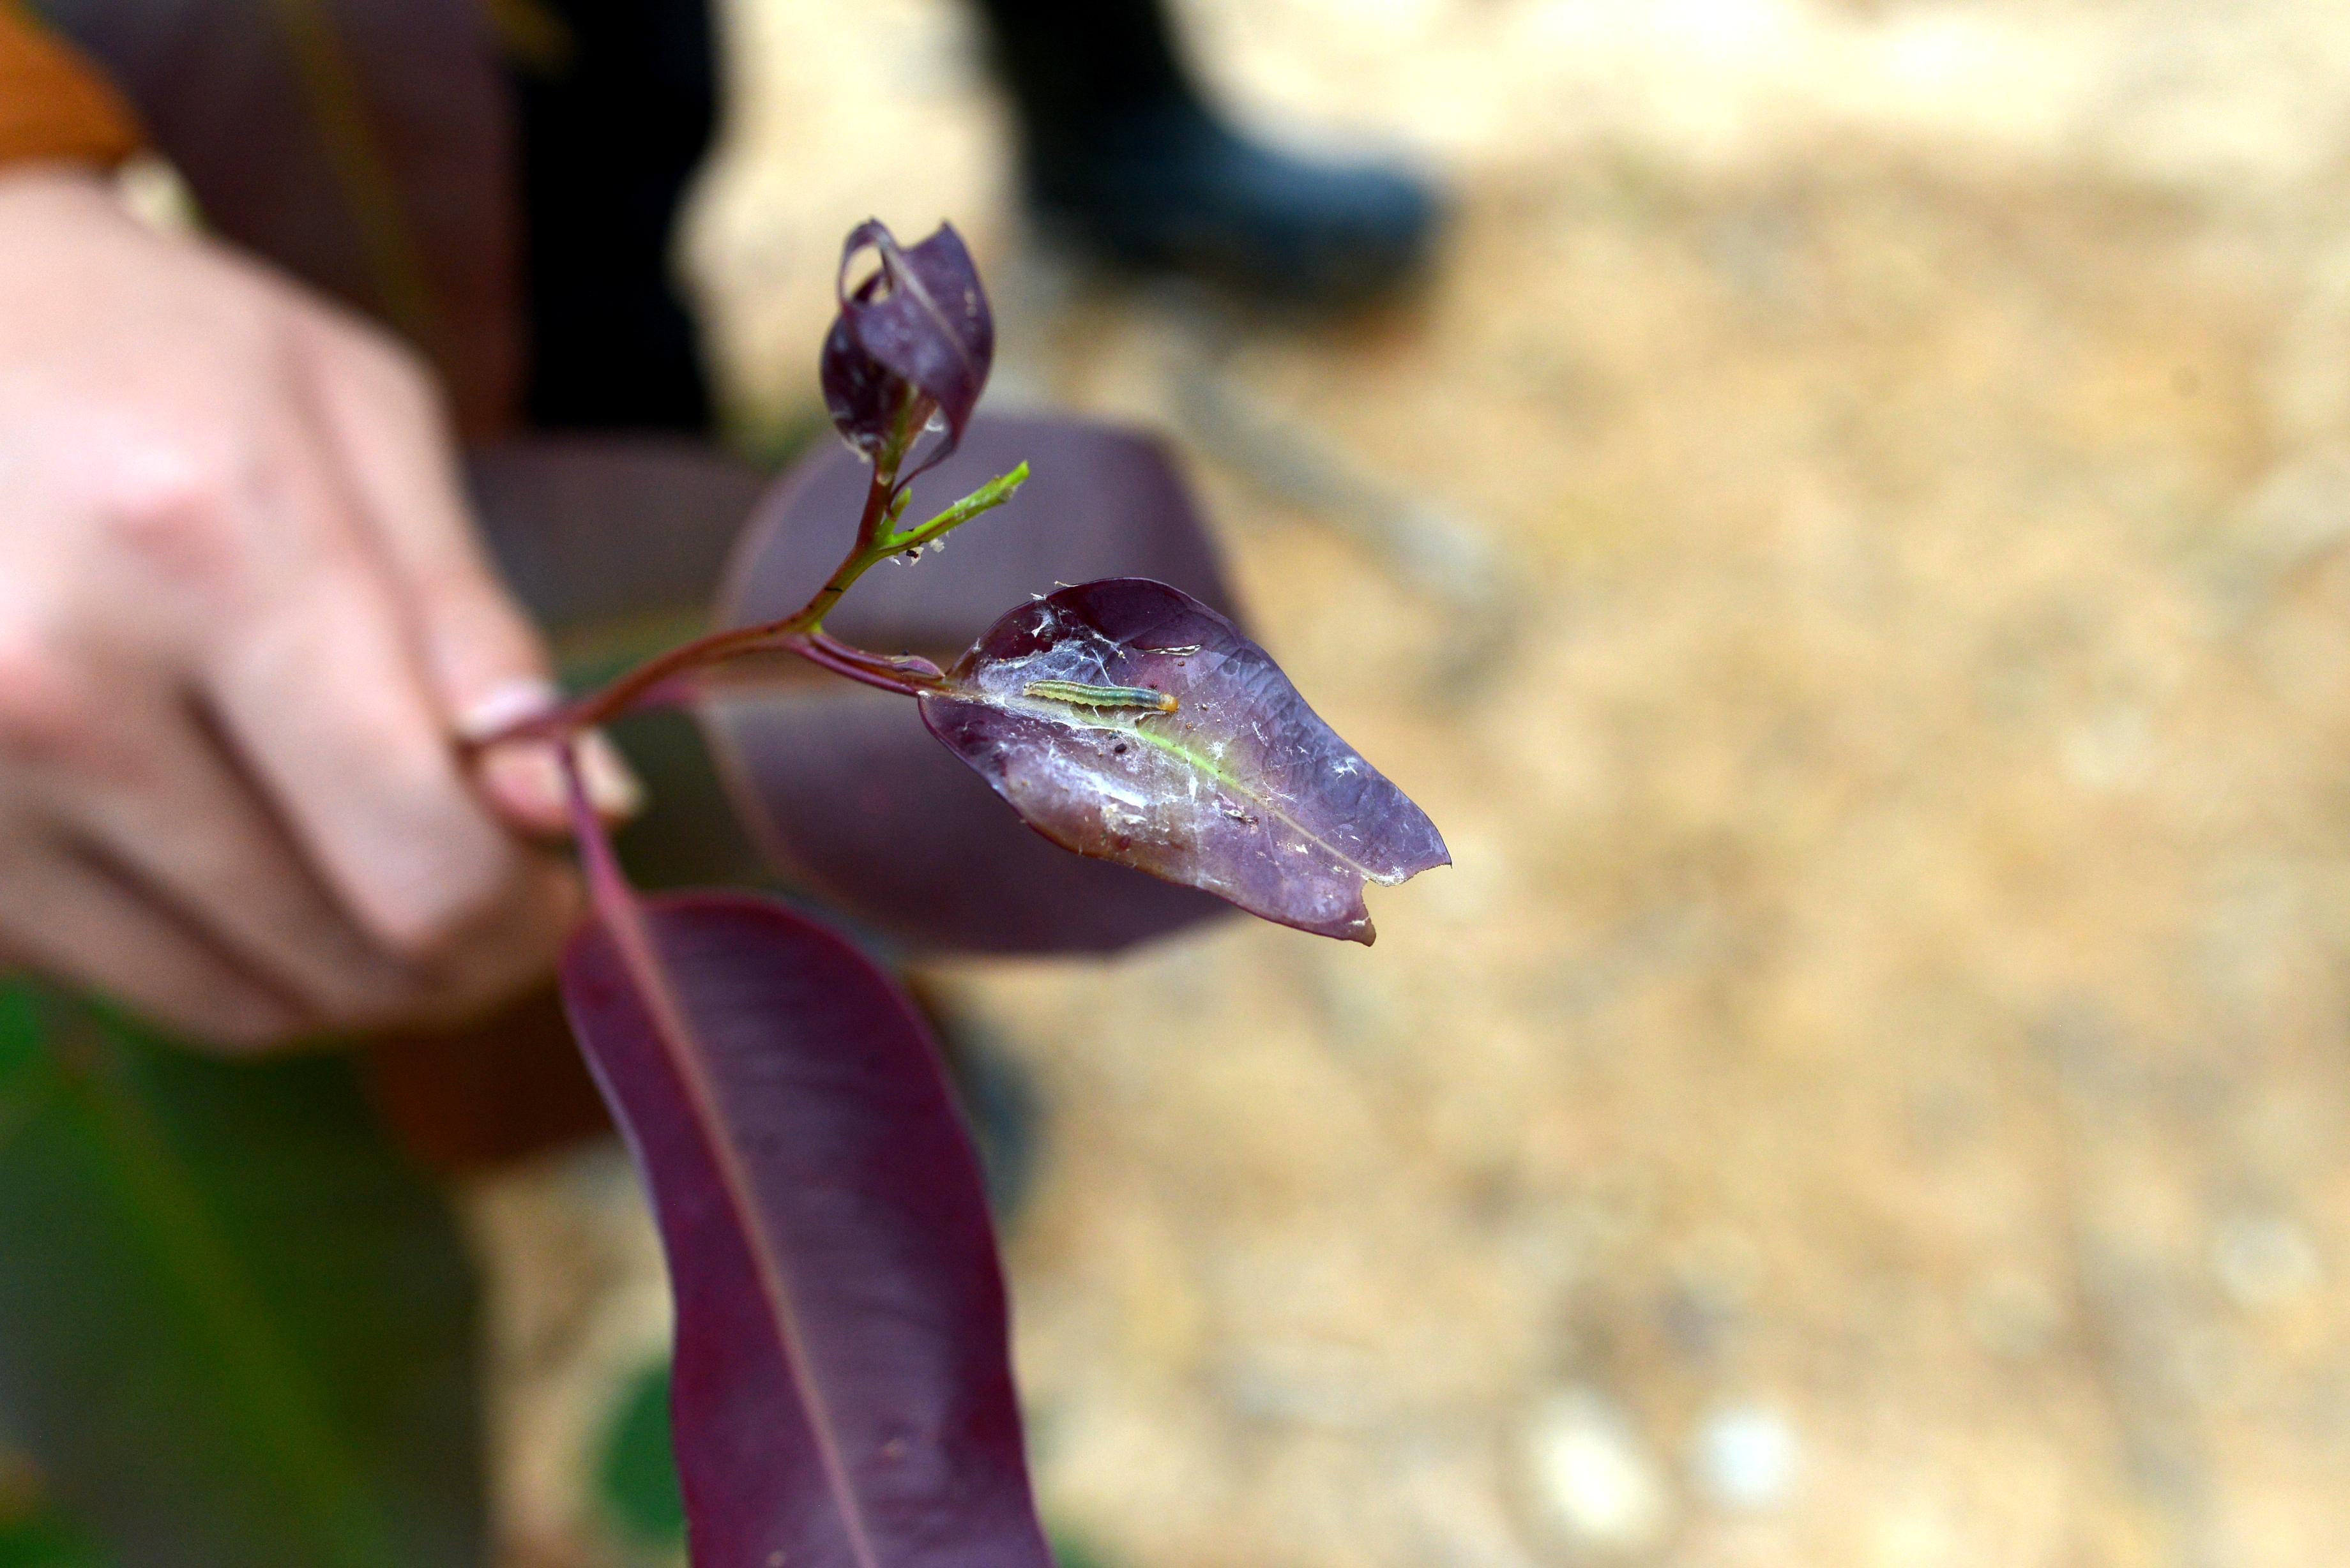Leaf Roller - Insect: (983, 635, 1200, 749)
Leaf Roller - Leaf: (917, 572, 1451, 936), (801, 205, 1011, 499)
